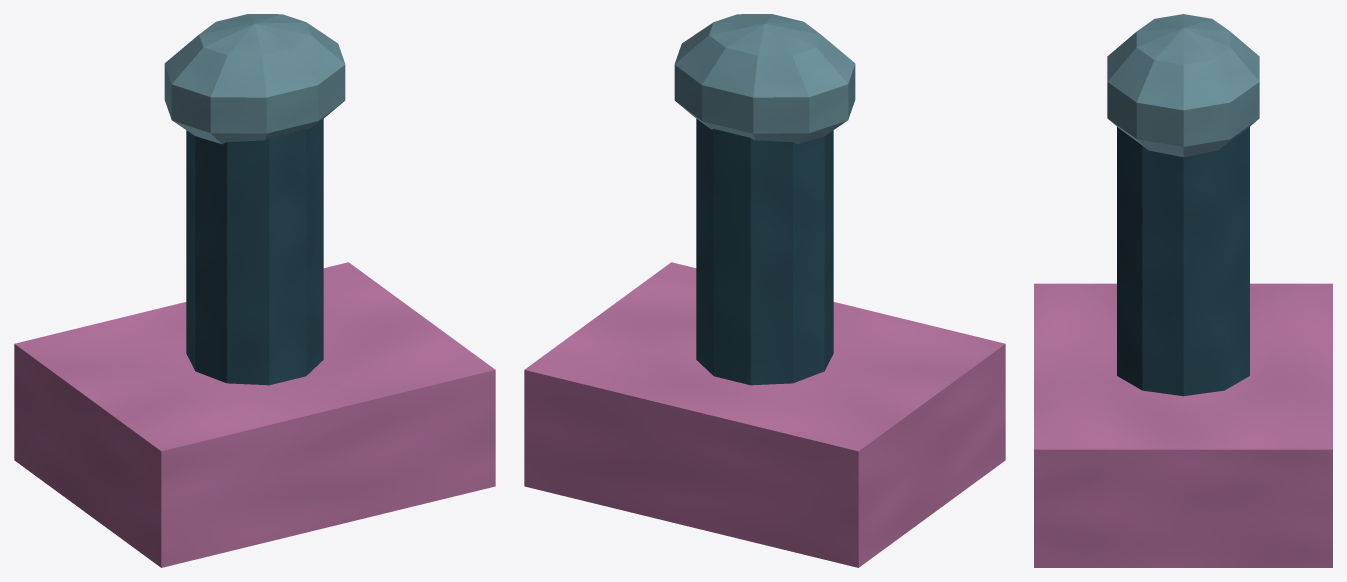
Rendered from atlas100-s063-a05.glb.
3 renders of one model, left to right at view 1: azimuth 30°, elevation 25°; view 2: azimuth 150°, elevation 25°; view 3: azimuth 270°, elevation 25°, orthographic.
Visible parts, largest first — view 1: atlas100-s063-a05:part-000, atlas100-s063-a05:part-001, atlas100-s063-a05:part-002; view 2: atlas100-s063-a05:part-000, atlas100-s063-a05:part-001, atlas100-s063-a05:part-002; view 3: atlas100-s063-a05:part-000, atlas100-s063-a05:part-001, atlas100-s063-a05:part-002.
Boxes of the visible parts, x1=… form: atlas100-s063-a05:part-000: x1=14, y1=262, x2=495, y2=567; atlas100-s063-a05:part-001: x1=186, y1=118, x2=323, y2=385; atlas100-s063-a05:part-002: x1=164, y1=14, x2=345, y2=144; atlas100-s063-a05:part-000: x1=524, y1=262, x2=1005, y2=567; atlas100-s063-a05:part-001: x1=696, y1=118, x2=833, y2=385; atlas100-s063-a05:part-002: x1=674, y1=14, x2=855, y2=144; atlas100-s063-a05:part-000: x1=1034, y1=283, x2=1332, y2=567; atlas100-s063-a05:part-001: x1=1117, y1=127, x2=1249, y2=396; atlas100-s063-a05:part-002: x1=1107, y1=14, x2=1259, y2=157.
Size of the model in its own units: 0.4586 by 0.5897 by 0.3494.
3 materials, 3 textured.
